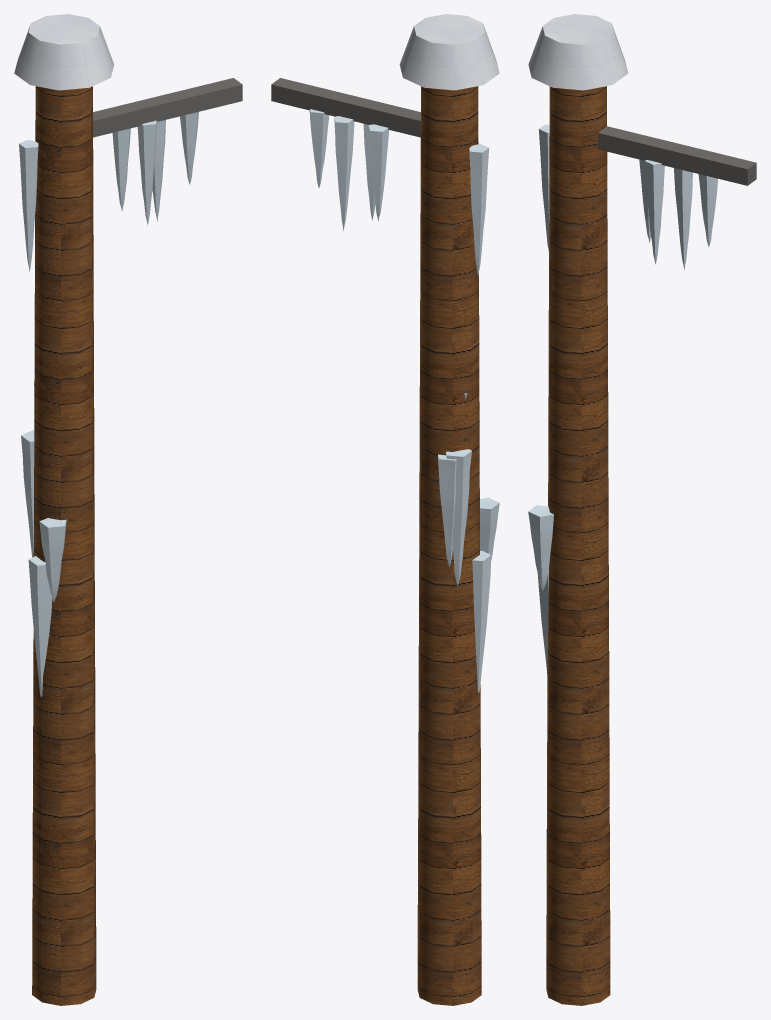
File: icy-post-v01.glb
3 views of the same model, side by side, from view 1: azimuth 30°, elevation 25°; view 2: azimuth 150°, elevation 25°; view 3: azimuth 330°, elevation 25° (orthographic).
Parts seen in each view (by area): view 1: icy-post; view 2: icy-post; view 3: icy-post.
Boxes of the visible parts, x1=… form: icy-post: x1=14, y1=14, x2=242, y2=1005; icy-post: x1=271, y1=14, x2=499, y2=1005; icy-post: x1=528, y1=14, x2=756, y2=1005.
Size of the model in its own units: 0.6831 by 2.91 by 0.28.
4 materials, 2 textured.
